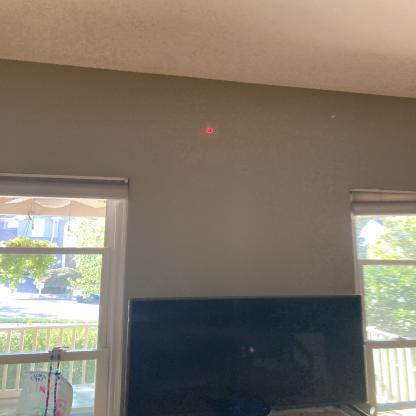target: (201, 127, 219, 137)
